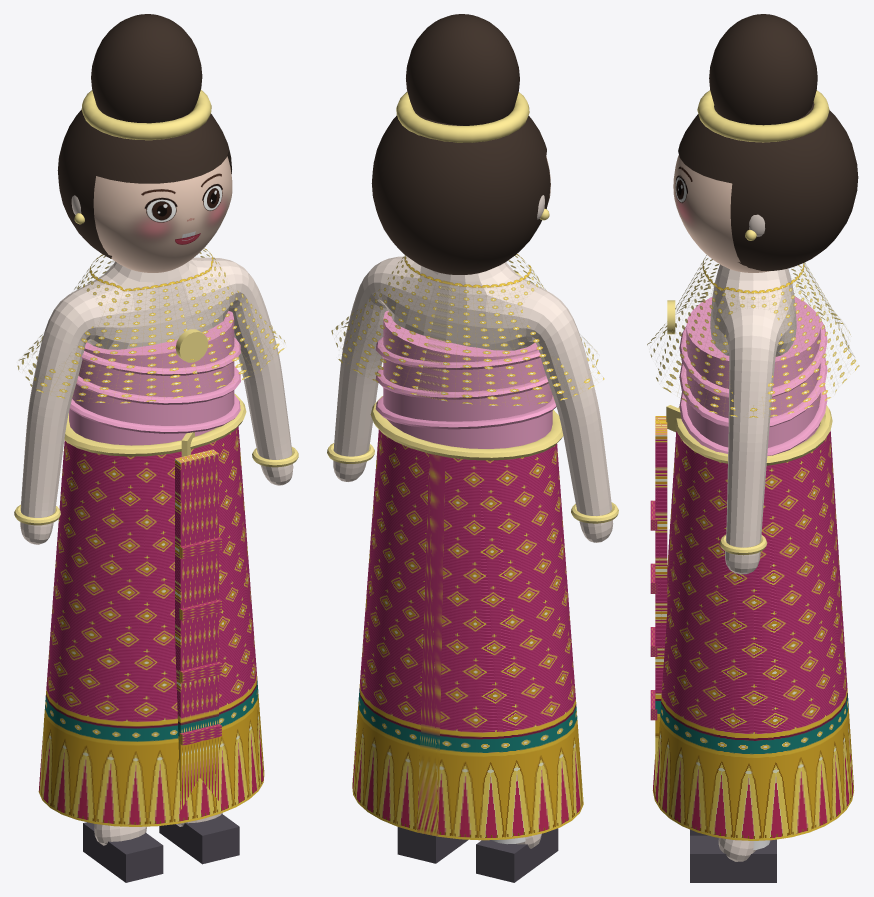
The model's file is khongkwan.glb.
3 views of the same model, side by side, from view 1: azimuth 30°, elevation 25°; view 2: azimuth 150°, elevation 25°; view 3: azimuth 270°, elevation 25° (orthographic). The views are drawn at different scales.
Parts seen in each view (by area): view 1: PhaSinSkirt, Body, FrontPleatNang, SabaiTorso, Head, TopBun, HairCap, GoldLaceShawl, Shoe_R, GoldBunRing, Shoe_L, GoldBelt (+8 smaller); view 2: PhaSinSkirt, Body, HairCap, SabaiTorso, TopBun, GoldLaceShawl, GoldBunRing, GoldBelt, Shoe_R, SabaiFold_0, Shoe_L, SabaiFold_1 (+1 smaller); view 3: PhaSinSkirt, HairCap, Body, TopBun, SabaiTorso, GoldLaceShawl, Head, FrontPleatNang, Shoe_L, GoldBunRing, GoldBelt, SabaiFold_2 (+3 smaller).
Part boxes in pixels (x1,y1,x2,y2): PhaSinSkirt: (38, 426, 264, 826); Body: (20, 257, 293, 845); FrontPleatNang: (175, 449, 218, 810); SabaiTorso: (69, 311, 234, 445); Head: (93, 156, 232, 272); TopBun: (91, 14, 202, 123); HairCap: (57, 107, 231, 258); GoldLaceShawl: (17, 248, 285, 403); Shoe_R: (83, 822, 163, 882); GoldBunRing: (81, 90, 211, 140); Shoe_L: (159, 814, 239, 864); GoldBelt: (64, 393, 246, 456); PhaSinSkirt: (352, 429, 583, 840); Body: (333, 256, 613, 848); HairCap: (371, 109, 550, 274); SabaiTorso: (383, 311, 552, 448); TopBun: (406, 14, 519, 125); GoldLaceShawl: (331, 254, 604, 405); GoldBunRing: (396, 92, 529, 142); GoldBelt: (370, 396, 563, 460); Shoe_R: (476, 828, 558, 882); SabaiFold_0: (375, 395, 556, 429); Shoe_L: (397, 827, 468, 863); SabaiFold_1: (375, 366, 548, 399); PhaSinSkirt: (652, 431, 854, 840); HairCap: (678, 102, 858, 270); Body: (710, 264, 796, 861); TopBun: (709, 14, 817, 125); SabaiTorso: (686, 297, 820, 447); GoldLaceShawl: (647, 255, 859, 417); Head: (673, 155, 770, 272); FrontPleatNang: (655, 416, 667, 786); Shoe_L: (690, 835, 776, 882); GoldBunRing: (697, 90, 829, 142); GoldBelt: (674, 405, 832, 465); SabaiFold_2: (679, 298, 827, 397).
Bounding box in the file's own units: 0.656 × 1.85 × 0.427.
Materials: 9 (3 with a texture image).
